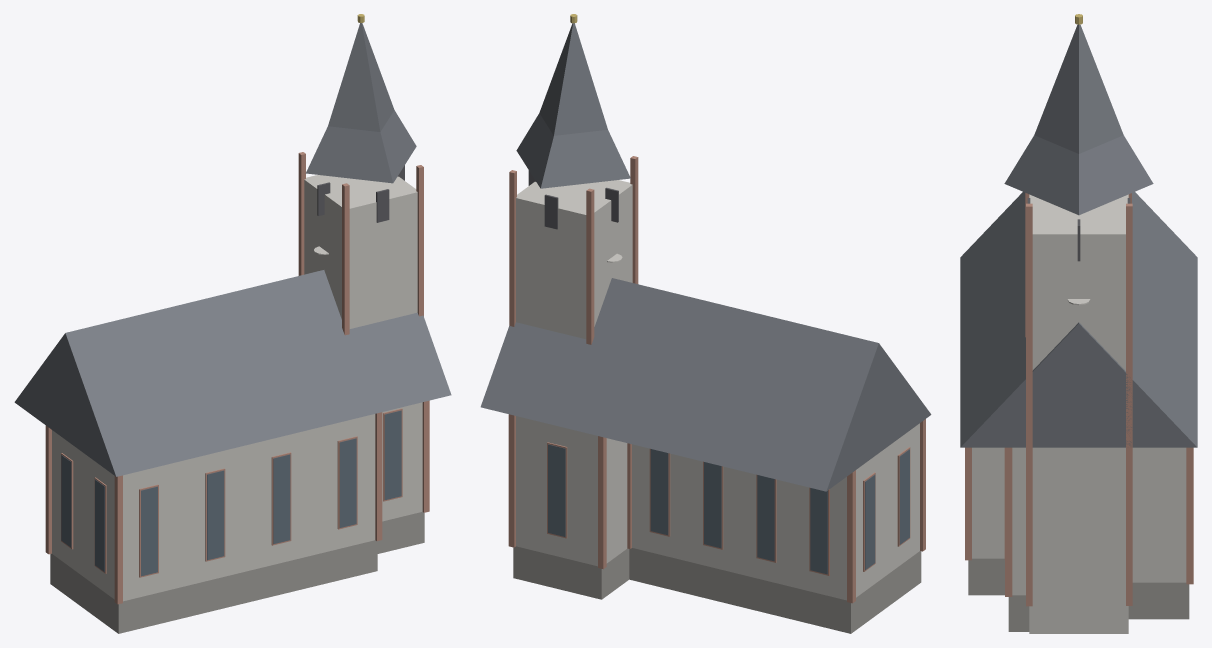
The model's file is landmark-church-evangelische-kirche-holzen.glb.
3 views of the same model, side by side, from view 1: azimuth 30°, elevation 25°; view 2: azimuth 150°, elevation 25°; view 3: azimuth 270°, elevation 25° (orthographic). The views are drawn at different scales.
Parts seen in each view (by area): view 1: building; view 2: building; view 3: building.
Part boxes in pixels (x1,y1,x2,y2): building: (14, 14, 451, 633); building: (480, 14, 931, 633); building: (960, 14, 1197, 633).
Size of the model in its own units: 29.19 by 40.75 by 14.67.
